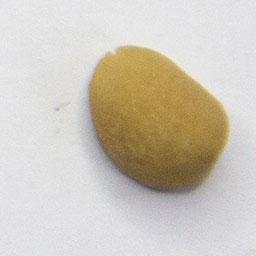defect: (81, 35, 238, 202)
